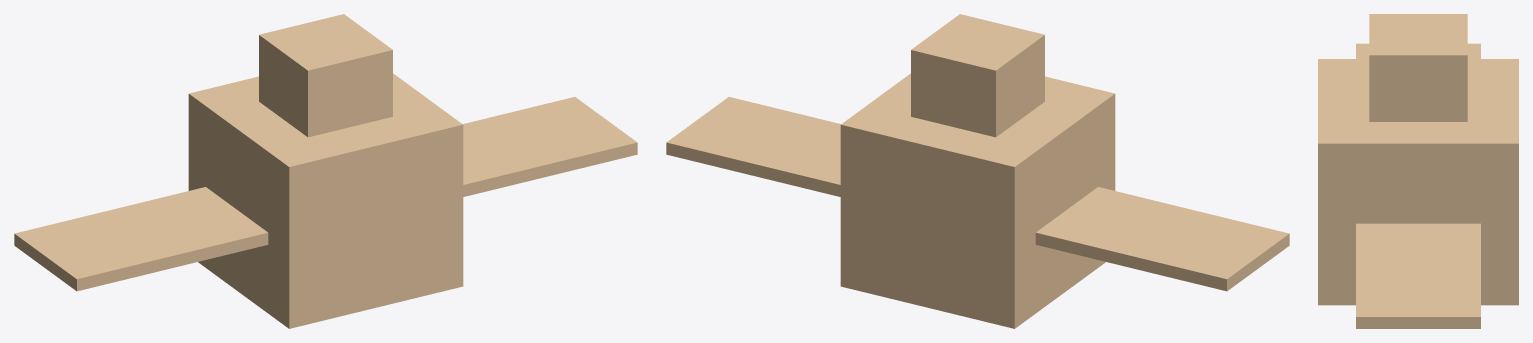
Rendered from jupiter.glb.
The picture shows the model from 3 angles, left to right: view 1: azimuth 30°, elevation 25°; view 2: azimuth 150°, elevation 25°; view 3: azimuth 270°, elevation 25°; orthographic projection.
Parts seen in each view (by area): view 1: jupiter-node; view 2: jupiter-node; view 3: jupiter-node.
Part boxes in pixels (box(x1,y1,x2,y2)): jupiter-node: box(14, 14, 637, 328); jupiter-node: box(666, 14, 1289, 328); jupiter-node: box(1318, 14, 1518, 328).
Size of the model in its own units: 2.9 by 1.13 by 0.9.
